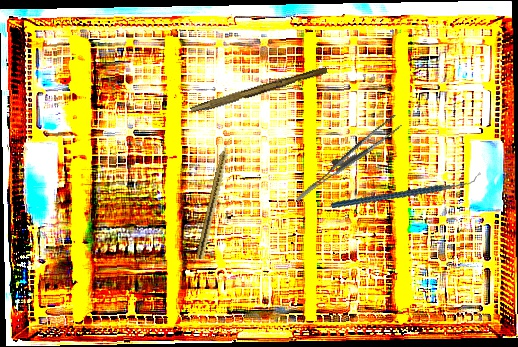Chopper: (330, 148, 482, 232)
Handpiece: (195, 137, 234, 261)
Scalpel Handle: (189, 63, 329, 118)
Tissue Forceps: (284, 114, 409, 202)
